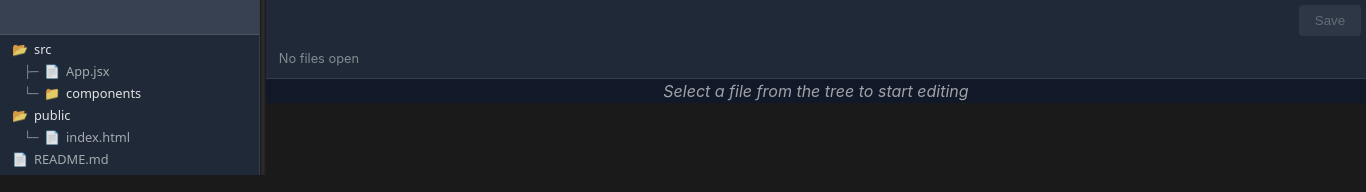
Test: FilesTab Component › renaming a folder closes open tabs under it
Click the element with test id "file-item-src/App.jsx" at (67, 71), box [24,62,110,80]
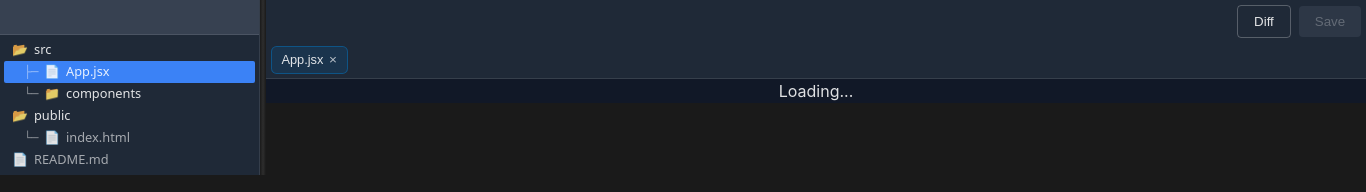
Expected: the text "src" is shown, [34,40,51,58]
Expected: the tab with test id "file-tab-src/App.jsx" is shown, [271,46,348,74]
Right-click the text "src" at (32, 49), box [12,40,51,58]
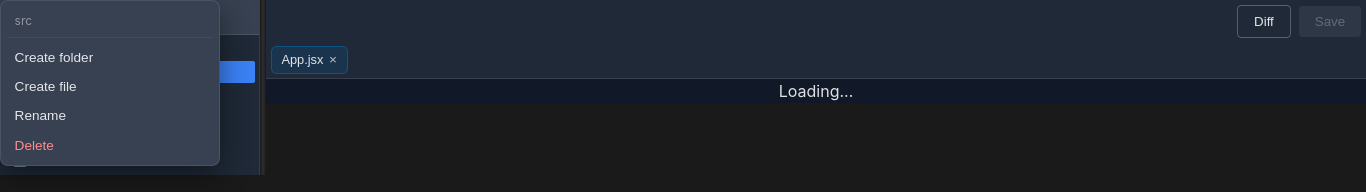
Click the menu item "Rename" at (110, 116), box [7,101,213,130]
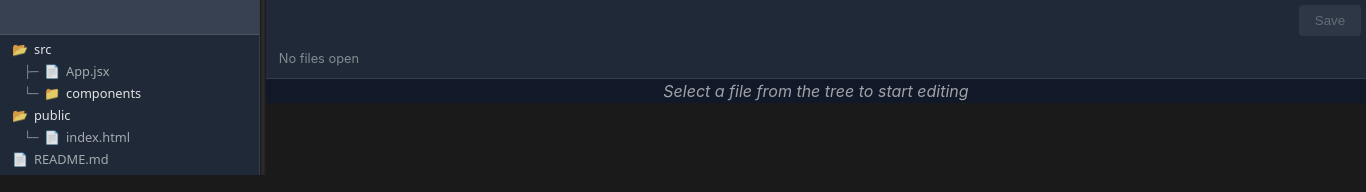
Expected: the text "No files open" is shown, [279,51,359,66]
